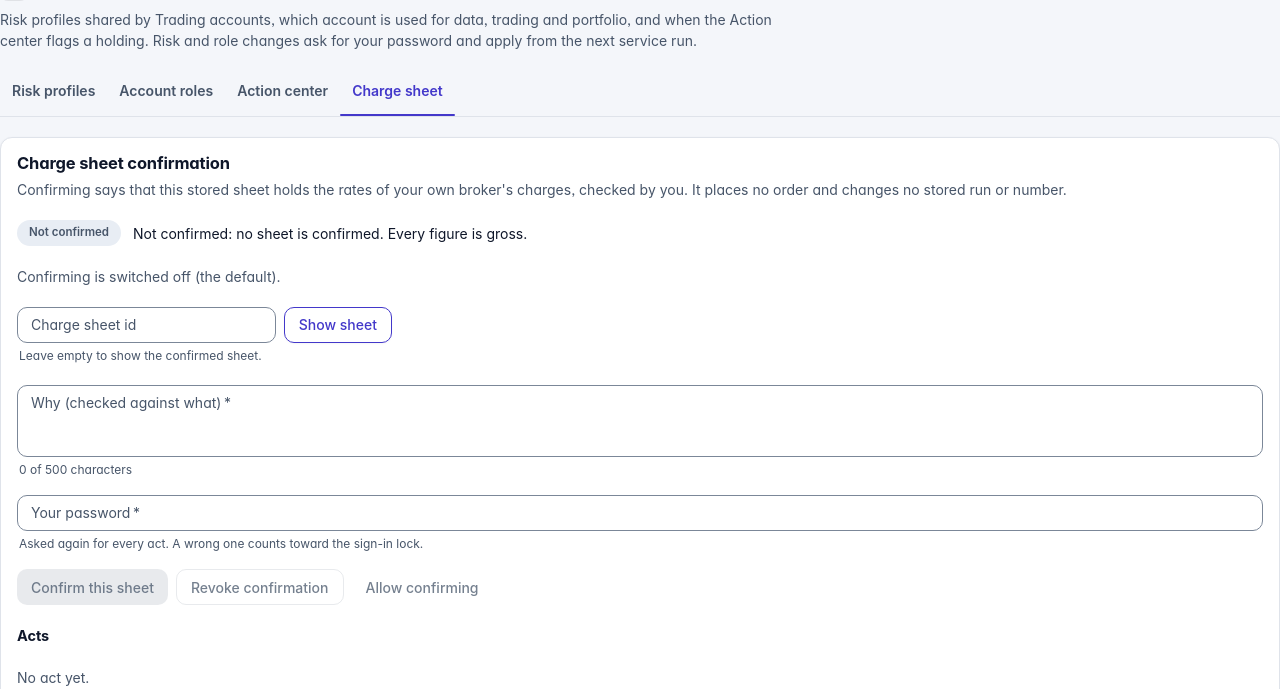
Test: Settings: the charge sheet confirmation › switches confirming on with a reason and the password, and clears the password after the act
The image size is (1280, 689).
Check: the text "Not confirmed" is shown, box [29,226,109,240]
Type "I want to confirm my sheet" into the text box labelled "Why (checked against what) *".
click(640, 421); type("I want to confirm my sheet")  # box [31,393,1249,449]
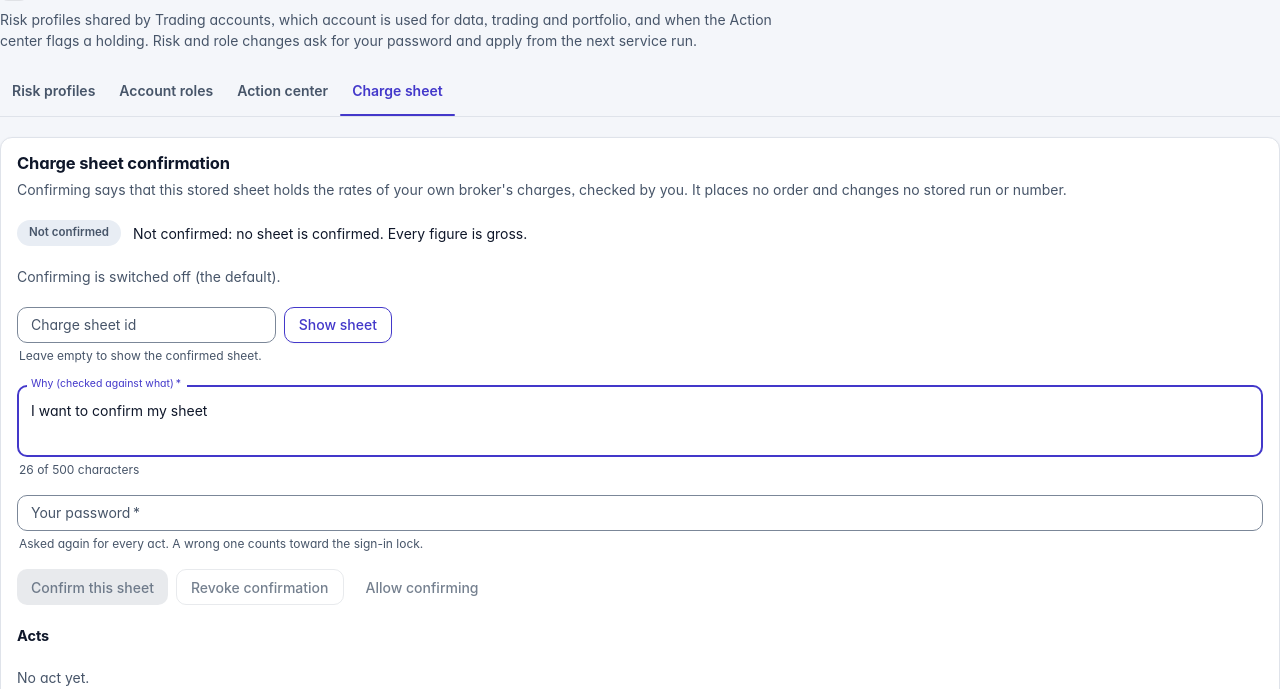
Type "correct-horse" into the password field labelled "Your password *".
click(640, 513); type("correct-horse")  # box [17,495,1263,531]
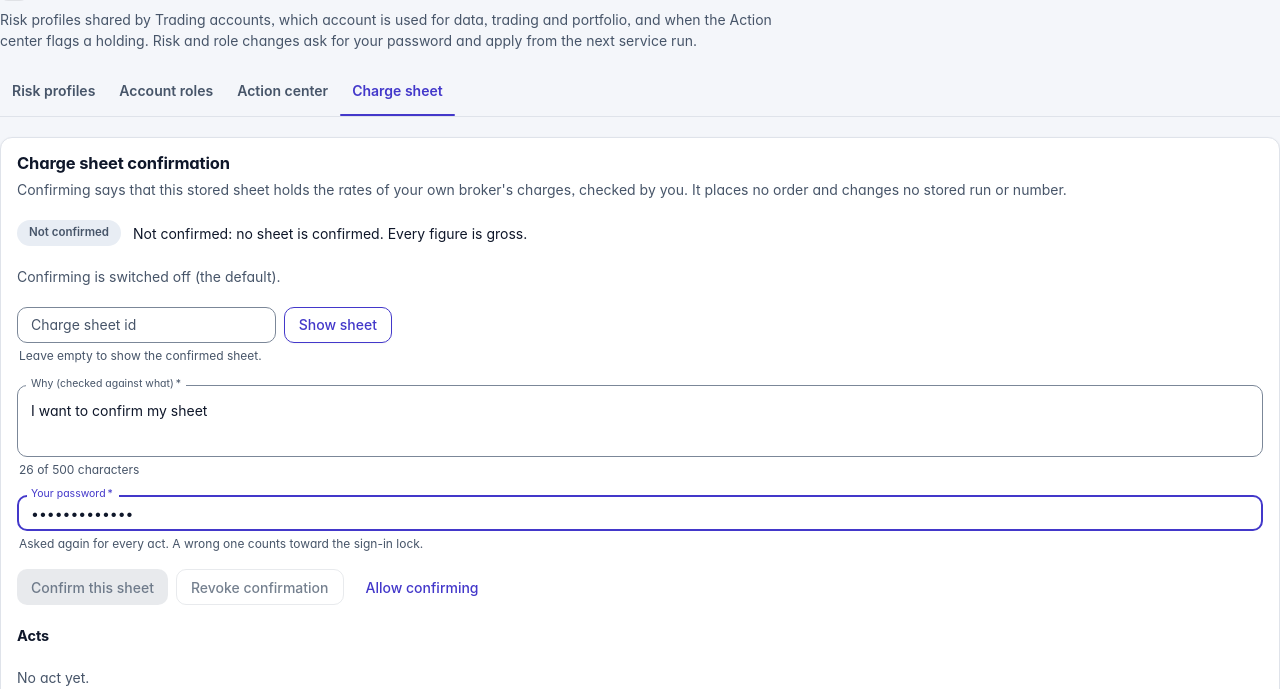
Click the button "Allow confirming".
click(422, 587)  # box [352,569,492,605]
(page scrolled)
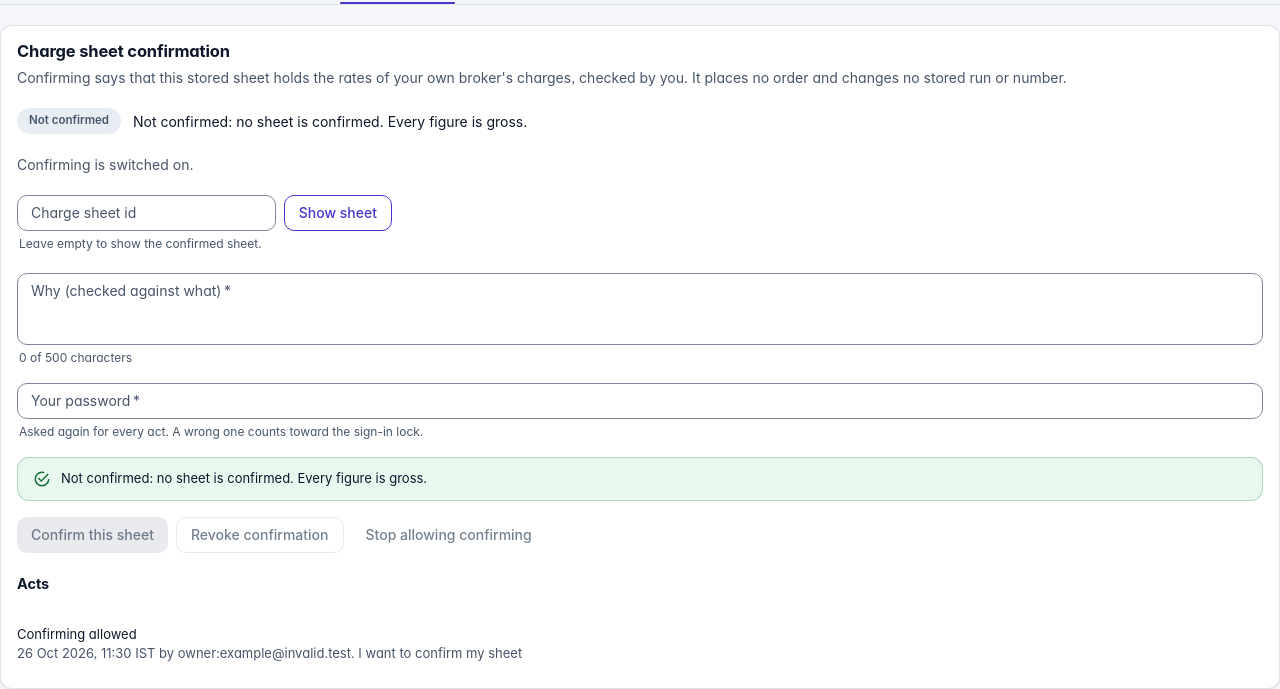
Check: the text "Confirming is switched on." is shown, box [17,156,194,173]
Check: the password field labelled "Your password *" is empty, box [17,383,1263,419]
Check: the button "Stop allowing confirming" is disabled, box [352,517,546,553]
